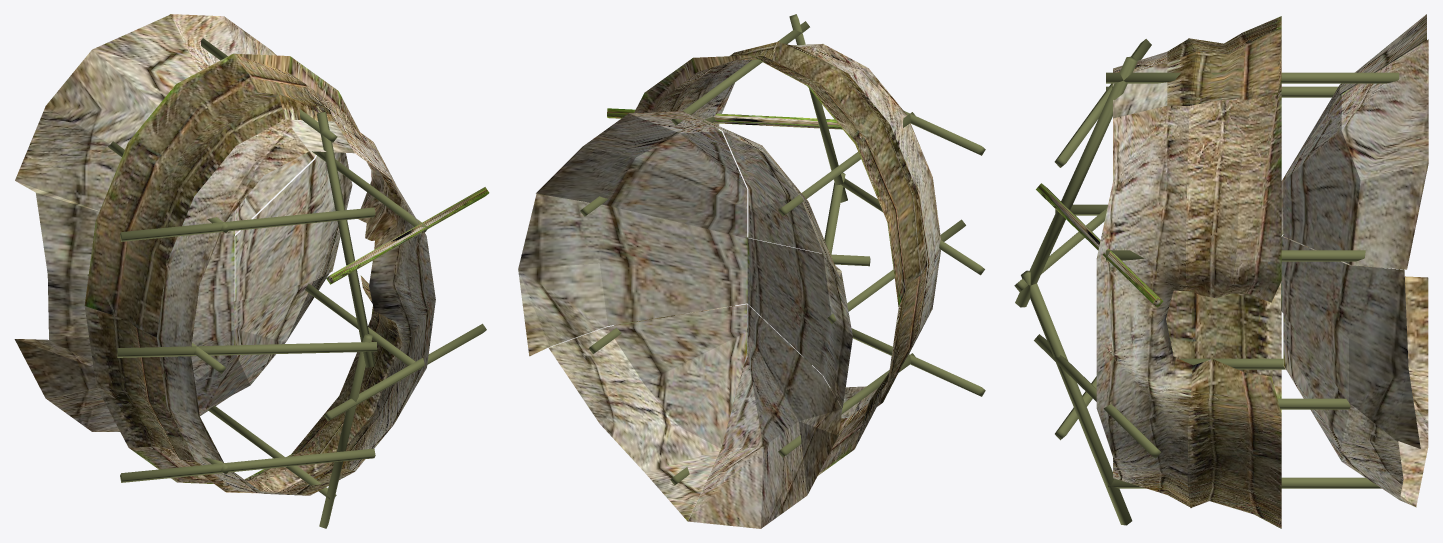
File: hut_000028.obj
The picture shows the model from 3 angles, left to right: view 1: azimuth 30°, elevation 25°; view 2: azimuth 150°, elevation 25°; view 3: azimuth 270°, elevation 25°; orthographic projection. The views are drawn at different scales.
Parts seen in each view (by area): view 1: Sphere.003, Sphere.002, Sphere.004, Sphere.001, Sphere.005, Sphere.007, Sphere.008, Sphere, Sphere.006, Cylinder.008_Cylinder.010, Cylinder.013_Cylinder.014, Cylinder.012_Cylinder.013 (+8 smaller); view 2: Sphere.005, Sphere, Sphere.008, Sphere.006, Sphere.007, Sphere.003, Sphere.001, Sphere.002, Sphere.004, Cylinder.010_Cylinder.011, Cylinder.012_Cylinder.013, Cylinder.009 (+7 smaller); view 3: Sphere.003, Sphere.001, Sphere.006, Sphere.002, Sphere.005, Sphere, Sphere.008, Cylinder.007, Cylinder.009, Cylinder.001, Sphere.004, Cylinder.010_Cylinder.011 (+8 smaller).
Boxes of the visible parts, x1,y1,x2,y2 form: Sphere.003: (136, 94, 435, 495); Sphere.002: (84, 53, 383, 483); Sphere.004: (15, 15, 234, 235); Sphere.001: (116, 77, 401, 493); Sphere.005: (235, 152, 352, 301); Sphere.007: (36, 193, 234, 339); Sphere.008: (14, 301, 234, 431); Sphere: (199, 273, 329, 415); Sphere.006: (169, 14, 315, 233); Cylinder.008_Cylinder.010: (117, 342, 377, 357); Cylinder.013_Cylinder.014: (120, 207, 375, 241); Cylinder.012_Cylinder.013: (120, 448, 375, 482); Sphere.005: (518, 193, 747, 356); Sphere: (548, 304, 746, 521); Sphere.008: (688, 304, 842, 528); Sphere.006: (536, 111, 747, 238); Sphere.007: (747, 238, 852, 407); Sphere.003: (676, 43, 940, 430); Sphere.001: (642, 41, 920, 444); Sphere.002: (614, 55, 905, 475); Sphere.004: (686, 111, 841, 276); Cylinder.010_Cylinder.011: (607, 108, 842, 129); Cylinder.012_Cylinder.013: (851, 328, 985, 396); Cylinder.009: (789, 14, 847, 202); Sphere.003: (1096, 38, 1197, 507); Sphere.001: (1186, 33, 1253, 514); Sphere.006: (1283, 39, 1428, 269); Sphere.002: (1231, 16, 1281, 528); Sphere.005: (1281, 237, 1420, 448); Sphere: (1283, 314, 1415, 506); Sphere.008: (1283, 276, 1428, 506); Cylinder.007: (1021, 270, 1132, 525); Cylinder.009: (1015, 56, 1137, 307); Cylinder.001: (1106, 72, 1399, 83); Sphere.004: (1281, 14, 1426, 235); Cylinder.010_Cylinder.011: (1036, 183, 1163, 307).
Size of the model in its own units: 4.43 by 4.88 by 3.77.
